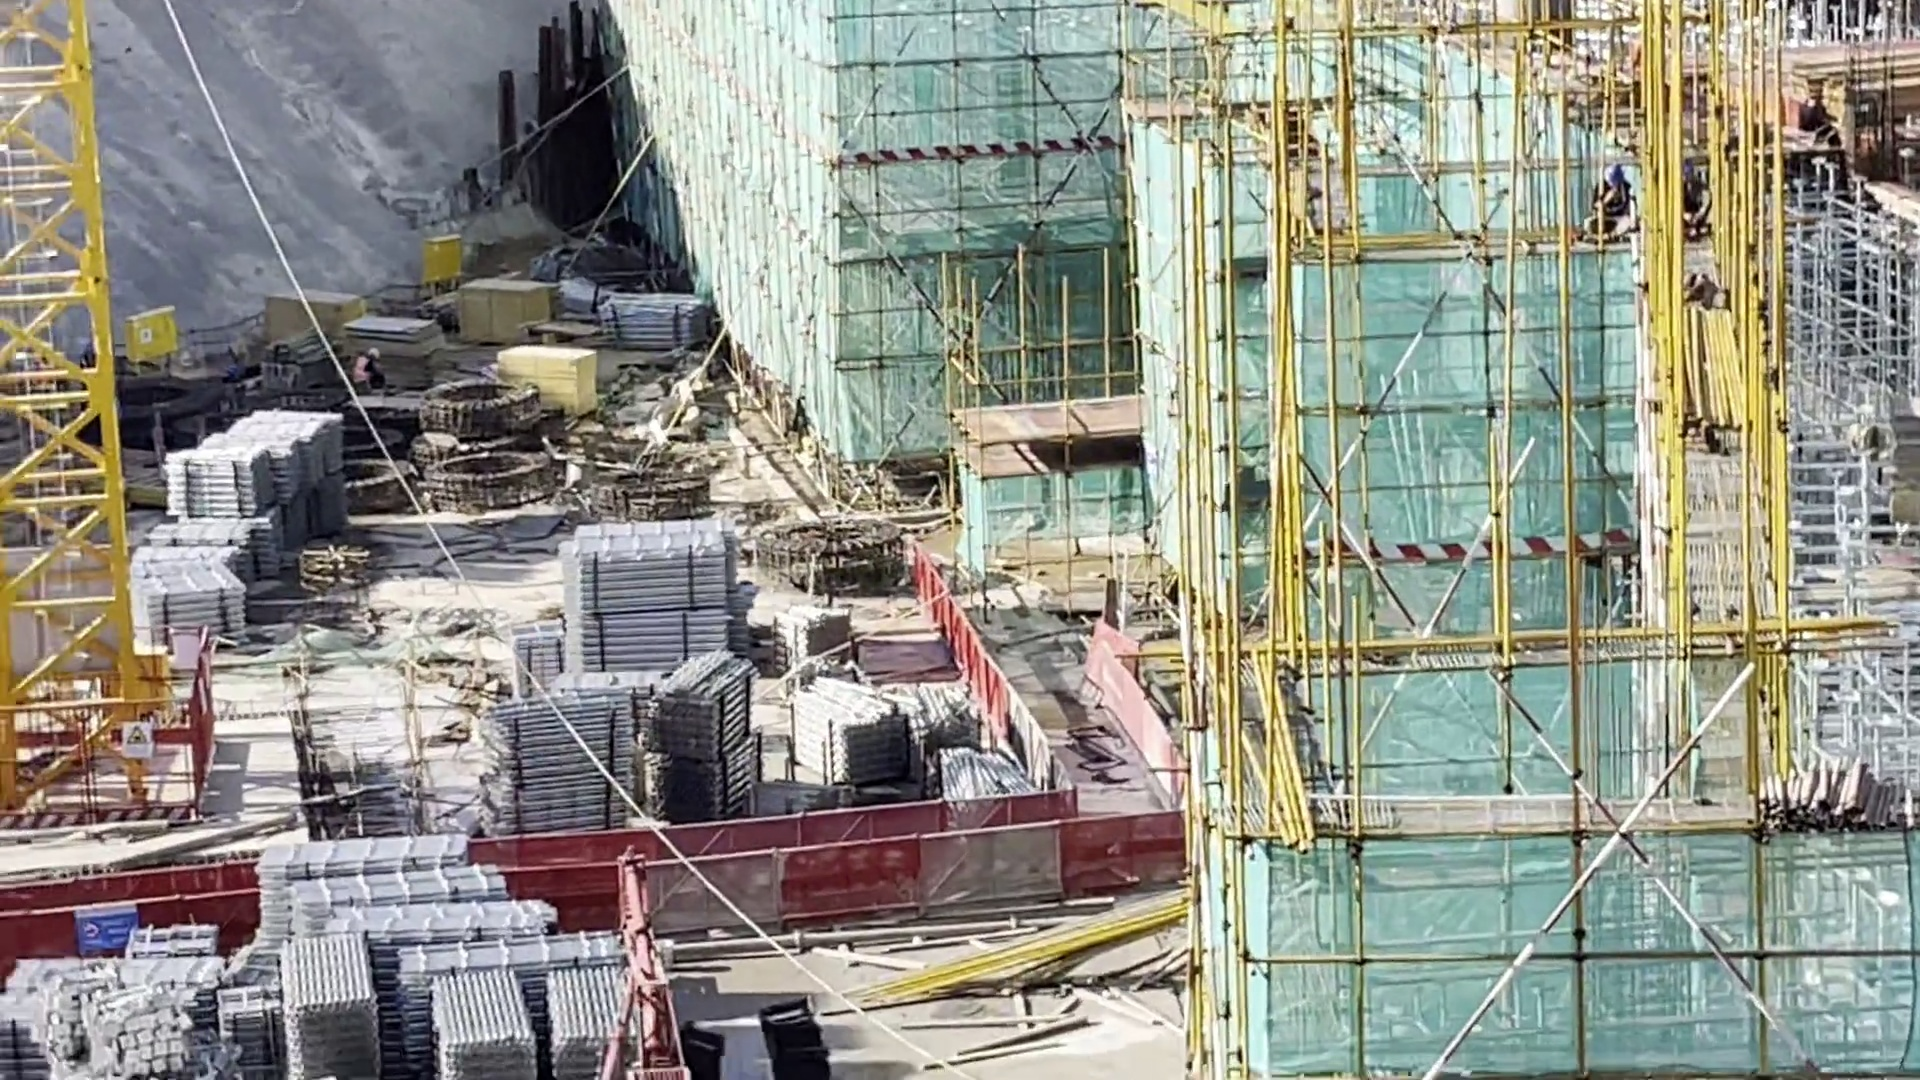board: (487, 345, 585, 411), (361, 308, 443, 385), (461, 288, 540, 349), (267, 293, 356, 337)
ebox: (118, 311, 182, 354), (426, 242, 464, 279)
fence: (610, 825, 1166, 920), (486, 798, 1067, 864), (930, 569, 1060, 792), (1, 887, 259, 979), (1, 858, 245, 898)
helmet: (1604, 164, 1627, 183), (1681, 164, 1696, 179), (369, 345, 380, 359)
person: (1587, 164, 1635, 253), (1669, 165, 1716, 243), (353, 346, 382, 400)
scaffold: (275, 948, 360, 1080), (800, 700, 907, 787), (588, 619, 721, 683), (415, 948, 645, 985), (540, 984, 633, 1073), (312, 905, 543, 940), (579, 549, 732, 600), (152, 575, 257, 644), (443, 979, 515, 1077), (675, 677, 757, 757), (604, 295, 719, 352), (772, 609, 859, 681), (660, 756, 753, 817), (301, 883, 493, 912), (256, 826, 431, 857), (499, 720, 615, 763), (515, 784, 629, 827), (507, 625, 572, 697), (181, 456, 281, 504), (4, 997, 53, 1080), (221, 1003, 277, 1068), (981, 749, 1027, 820), (900, 692, 947, 760), (175, 519, 269, 551), (243, 431, 324, 460), (947, 751, 991, 804), (259, 404, 336, 432), (940, 692, 975, 749), (143, 553, 228, 572), (287, 501, 325, 539), (329, 491, 359, 536)
slogan: (74, 910, 139, 948), (123, 725, 156, 766)
vest: (1594, 187, 1633, 216), (1679, 186, 1708, 217), (354, 356, 369, 383)
